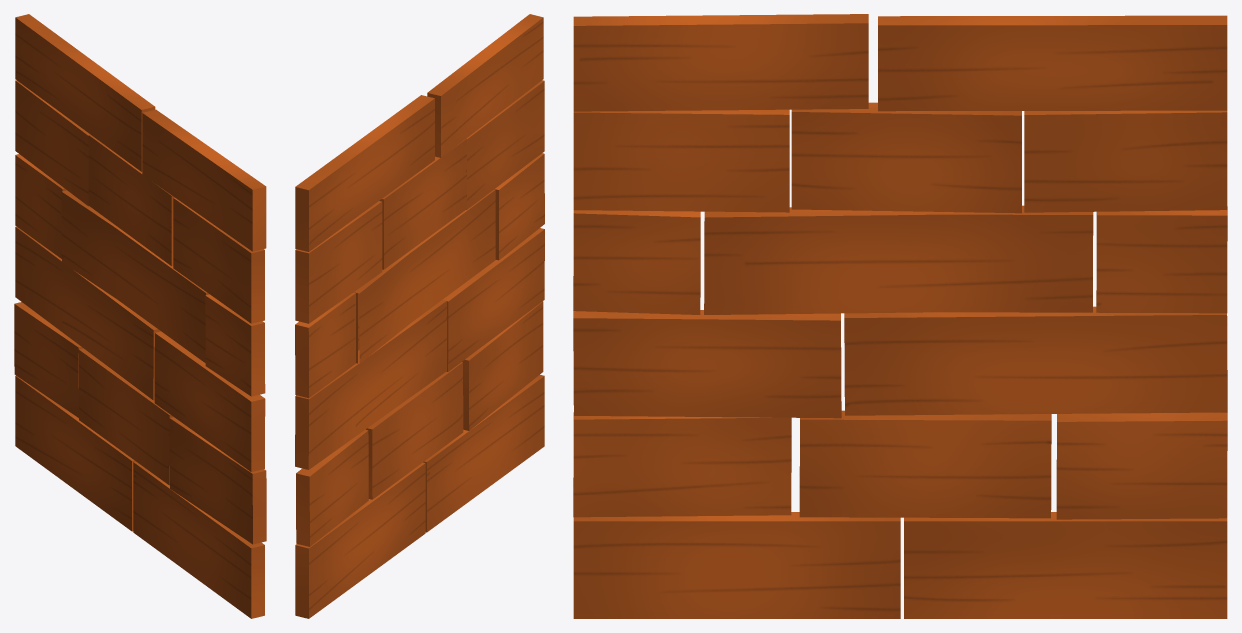
Rendered from PAREDE.fbx.
3 views of the same model, side by side, from view 1: azimuth 30°, elevation 25°; view 2: azimuth 150°, elevation 25°; view 3: azimuth 270°, elevation 25° (orthographic). The views are drawn at different scales.
Visible parts, largest first — view 1: PAREDE.004; view 2: PAREDE.004; view 3: PAREDE.004.
Boxes of the visible parts, x1=… form: PAREDE.004: x1=14, y1=14, x2=266, y2=618; PAREDE.004: x1=295, y1=14, x2=544, y2=618; PAREDE.004: x1=573, y1=14, x2=1227, y2=618.
Size of the model in its own units: 10.44 by 200 by 200.
1 material, 1 textured.
